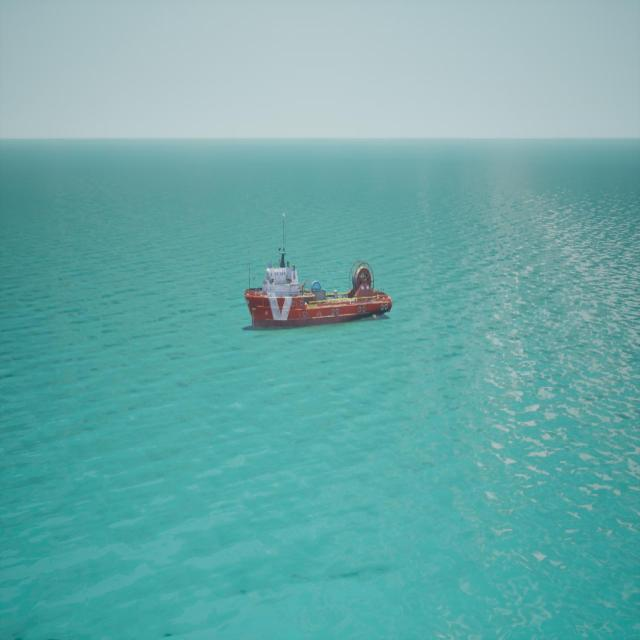tug boat: (242, 215, 392, 334)
